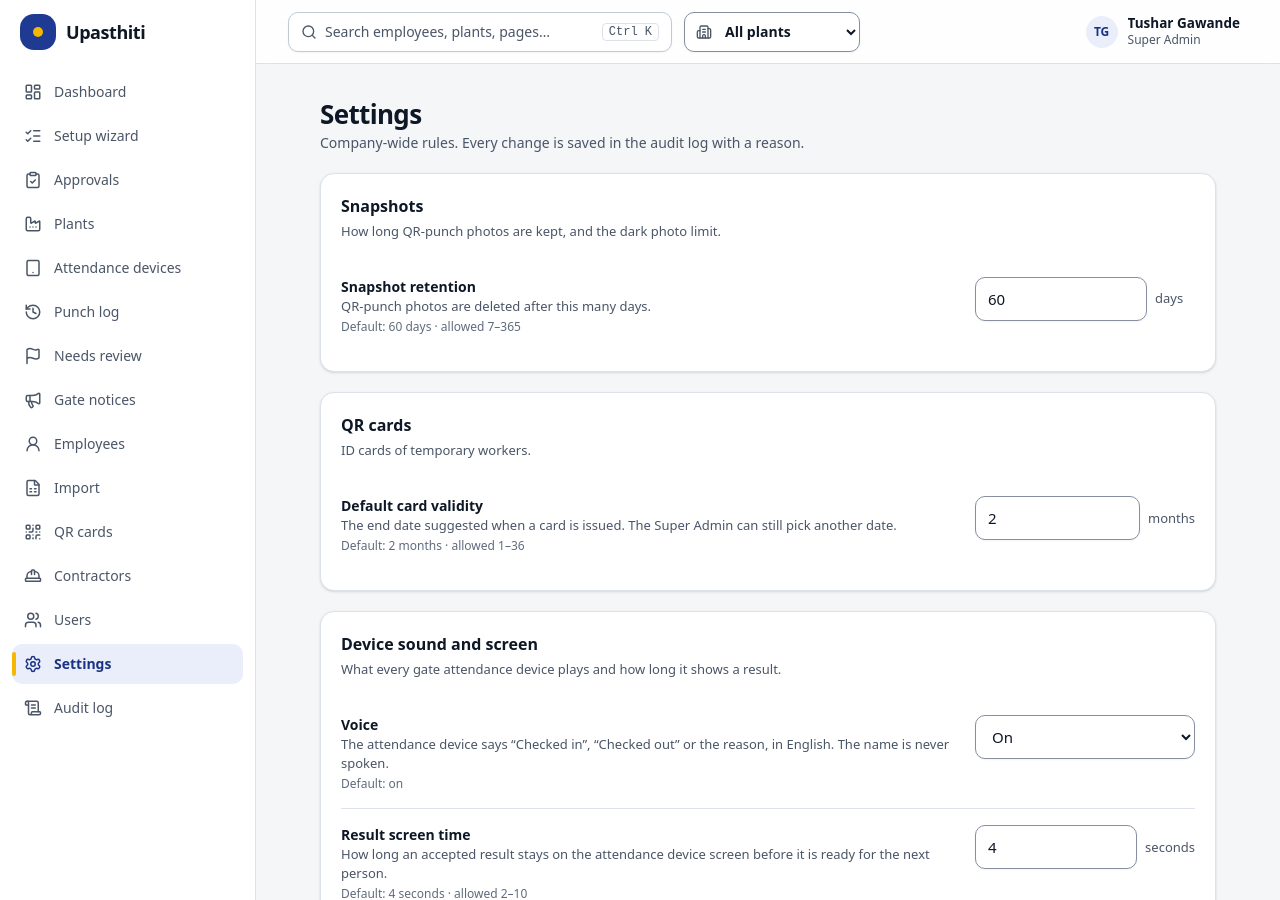
Scenario: settings: M2 cards › keeps Save off for a number outside the range
The width and height of the screenshot is (1280, 900).
Replace the text in the field labelled "Result screen time" with "30" at (1056, 847), box [975, 825, 1137, 869]
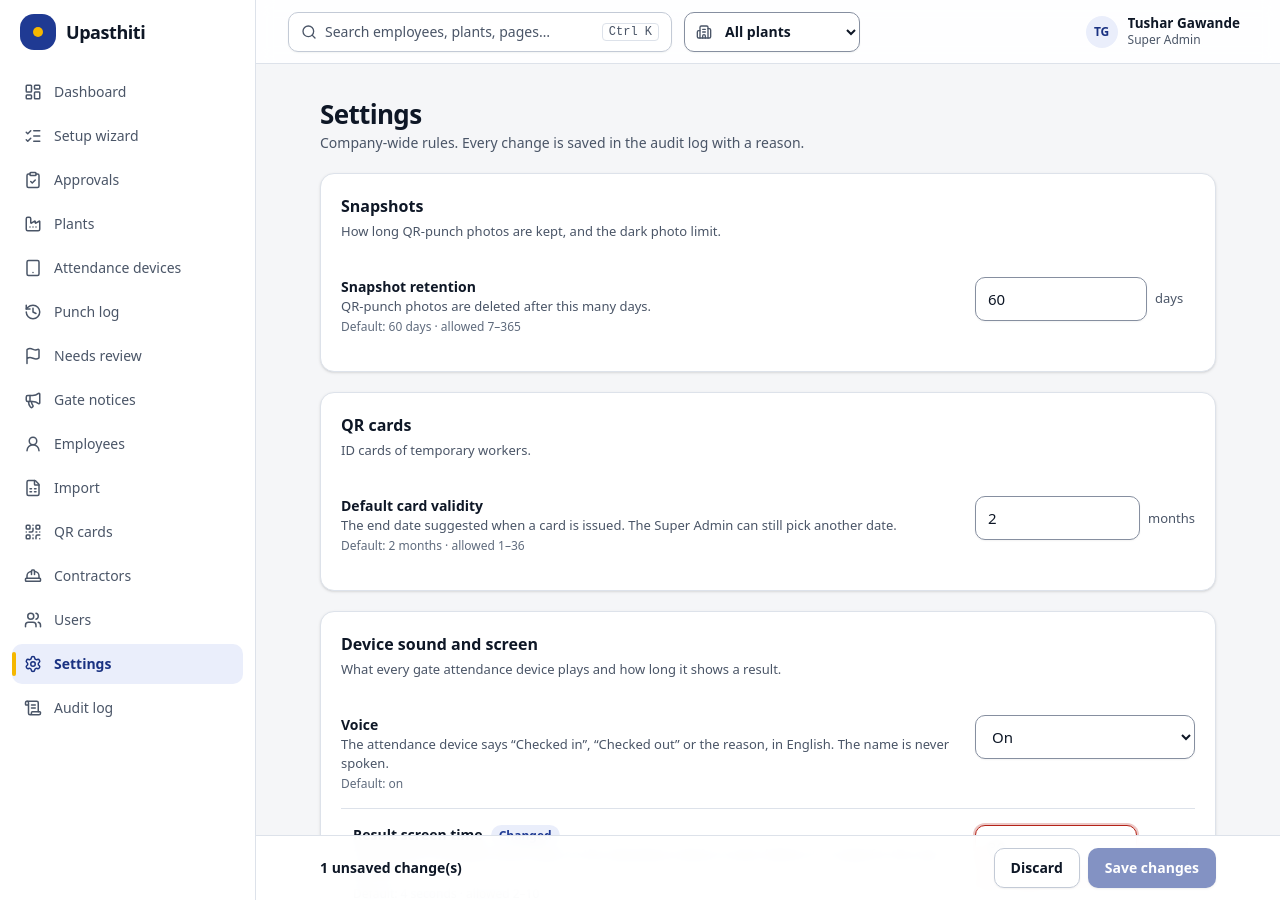
Expected: the text "Use a value from 2 to 10." is shown, [975, 873, 1126, 891]
Expected: the button "Save changes" is disabled, [1088, 848, 1216, 888]
